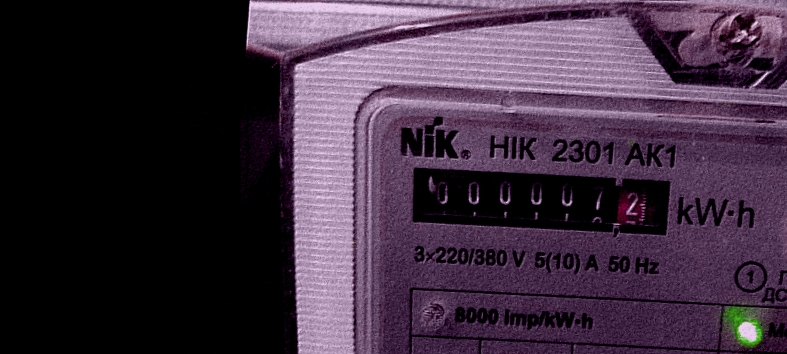0: (465, 178, 484, 207), (496, 178, 515, 207), (528, 179, 547, 208), (433, 178, 452, 206), (559, 181, 577, 210)
2: (624, 191, 642, 218)
7: (590, 182, 608, 213)
screen: (399, 154, 683, 248)
